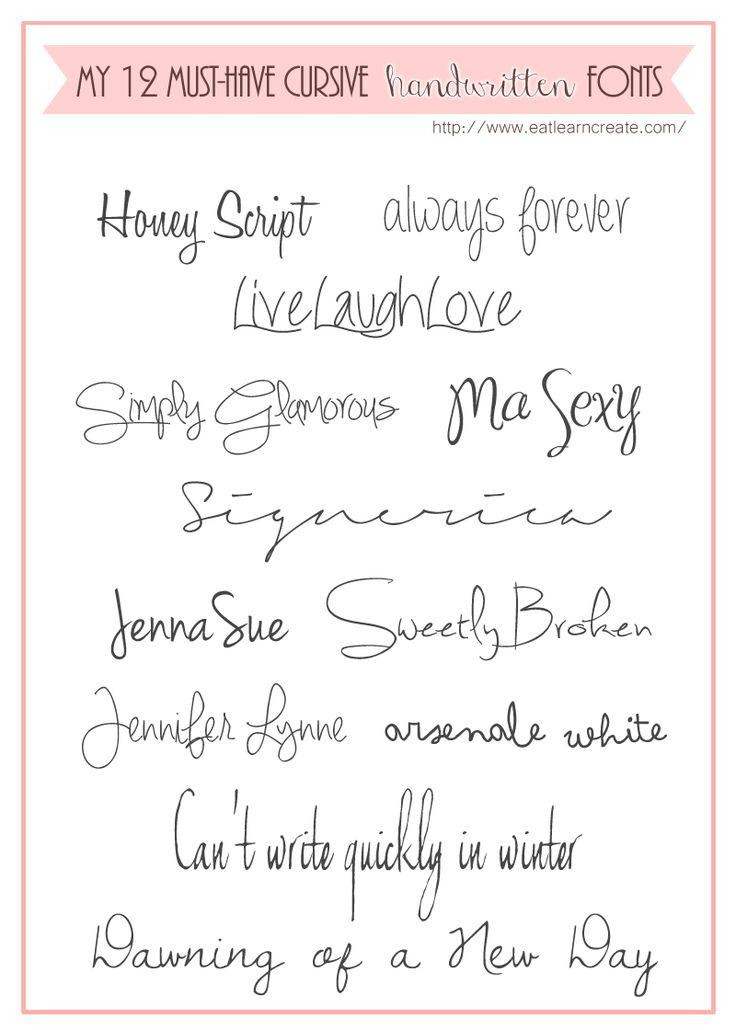text: (167, 776, 586, 921), (86, 909, 661, 1003), (176, 476, 617, 570), (69, 370, 404, 460), (323, 574, 657, 664), (73, 57, 667, 104), (74, 679, 351, 773), (373, 176, 636, 264), (227, 270, 527, 344), (441, 361, 644, 464), (94, 181, 323, 267), (109, 579, 293, 661), (383, 696, 666, 749), (429, 113, 690, 140)
